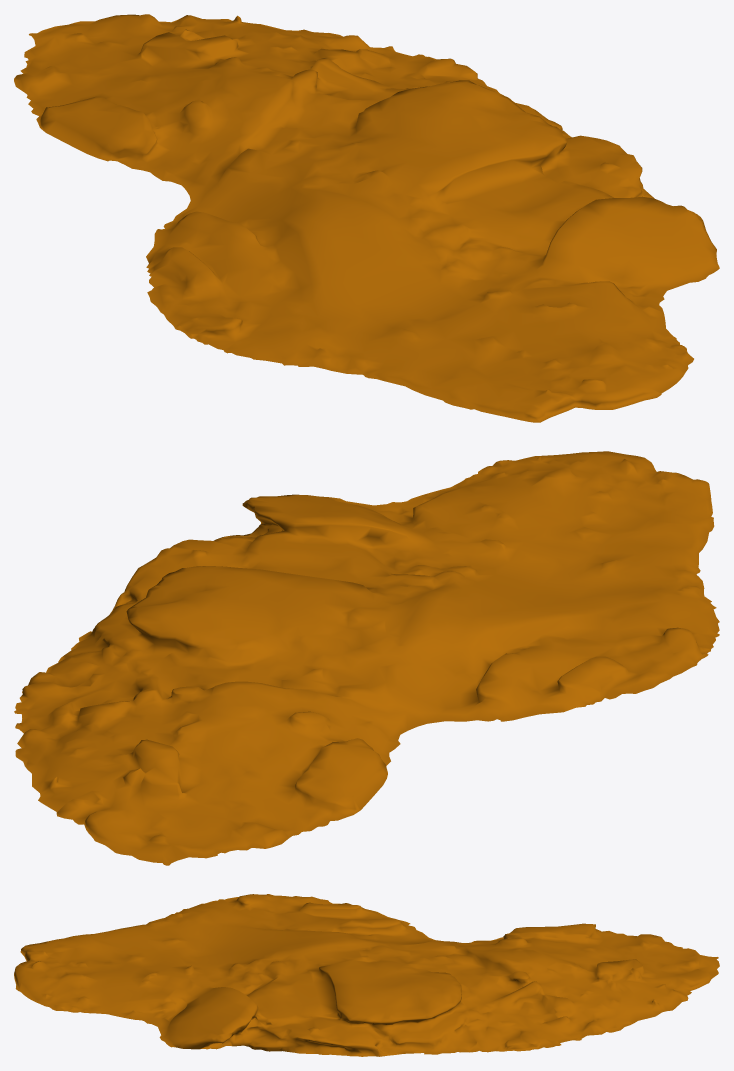
The model's file is Mesh_Ground_02_AG.FBX.
The picture shows the model from 3 angles, top to bottom: view 1: azimuth 30°, elevation 25°; view 2: azimuth 150°, elevation 25°; view 3: azimuth 270°, elevation 25°; orthographic projection. The views are drawn at different scales.
Parts seen in each view (by area): view 1: MESH_LOD0; view 2: MESH_LOD0; view 3: MESH_LOD0.
Boxes of the visible parts, x1,y1,x2,y2 form: MESH_LOD0: [14, 14, 719, 422]; MESH_LOD0: [14, 451, 719, 865]; MESH_LOD0: [14, 894, 719, 1056].
Size of what is drawn, in the model's own units: 144 by 13.52 by 264.
